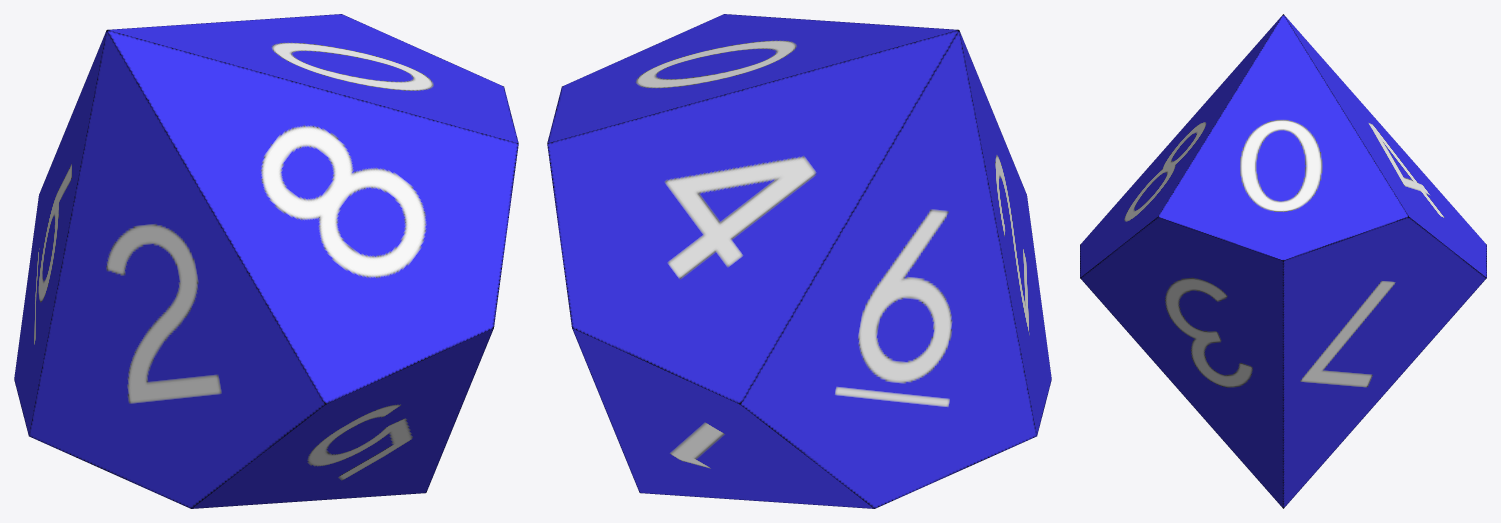
The model's file is d10_blue.gltf.
3 views of the same model, side by side, from view 1: azimuth 30°, elevation 25°; view 2: azimuth 150°, elevation 25°; view 3: azimuth 270°, elevation 25° (orthographic). The views are drawn at different scales.
Visible parts, largest first — view 1: d10; view 2: d10; view 3: d10.
Boxes of the visible parts, x1,y1,x2,y2 form: d10: (14, 14, 518, 508); d10: (547, 14, 1051, 508); d10: (1080, 14, 1486, 508).
Bounding box in the file's own units: 1.79 × 1.95 × 1.87.
1 material, 1 textured.
